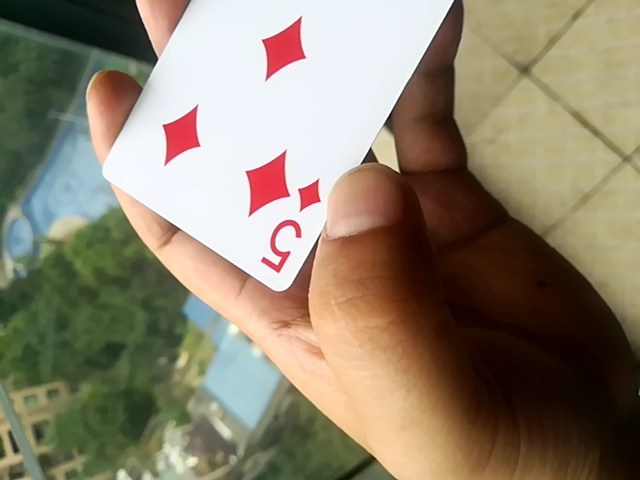fk 5: (94, 1, 485, 299)
